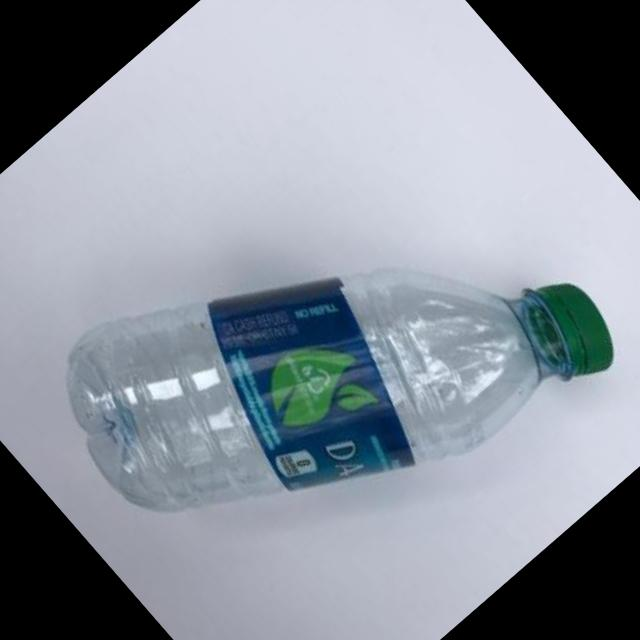BotolPlastik: (24, 66, 636, 640)
